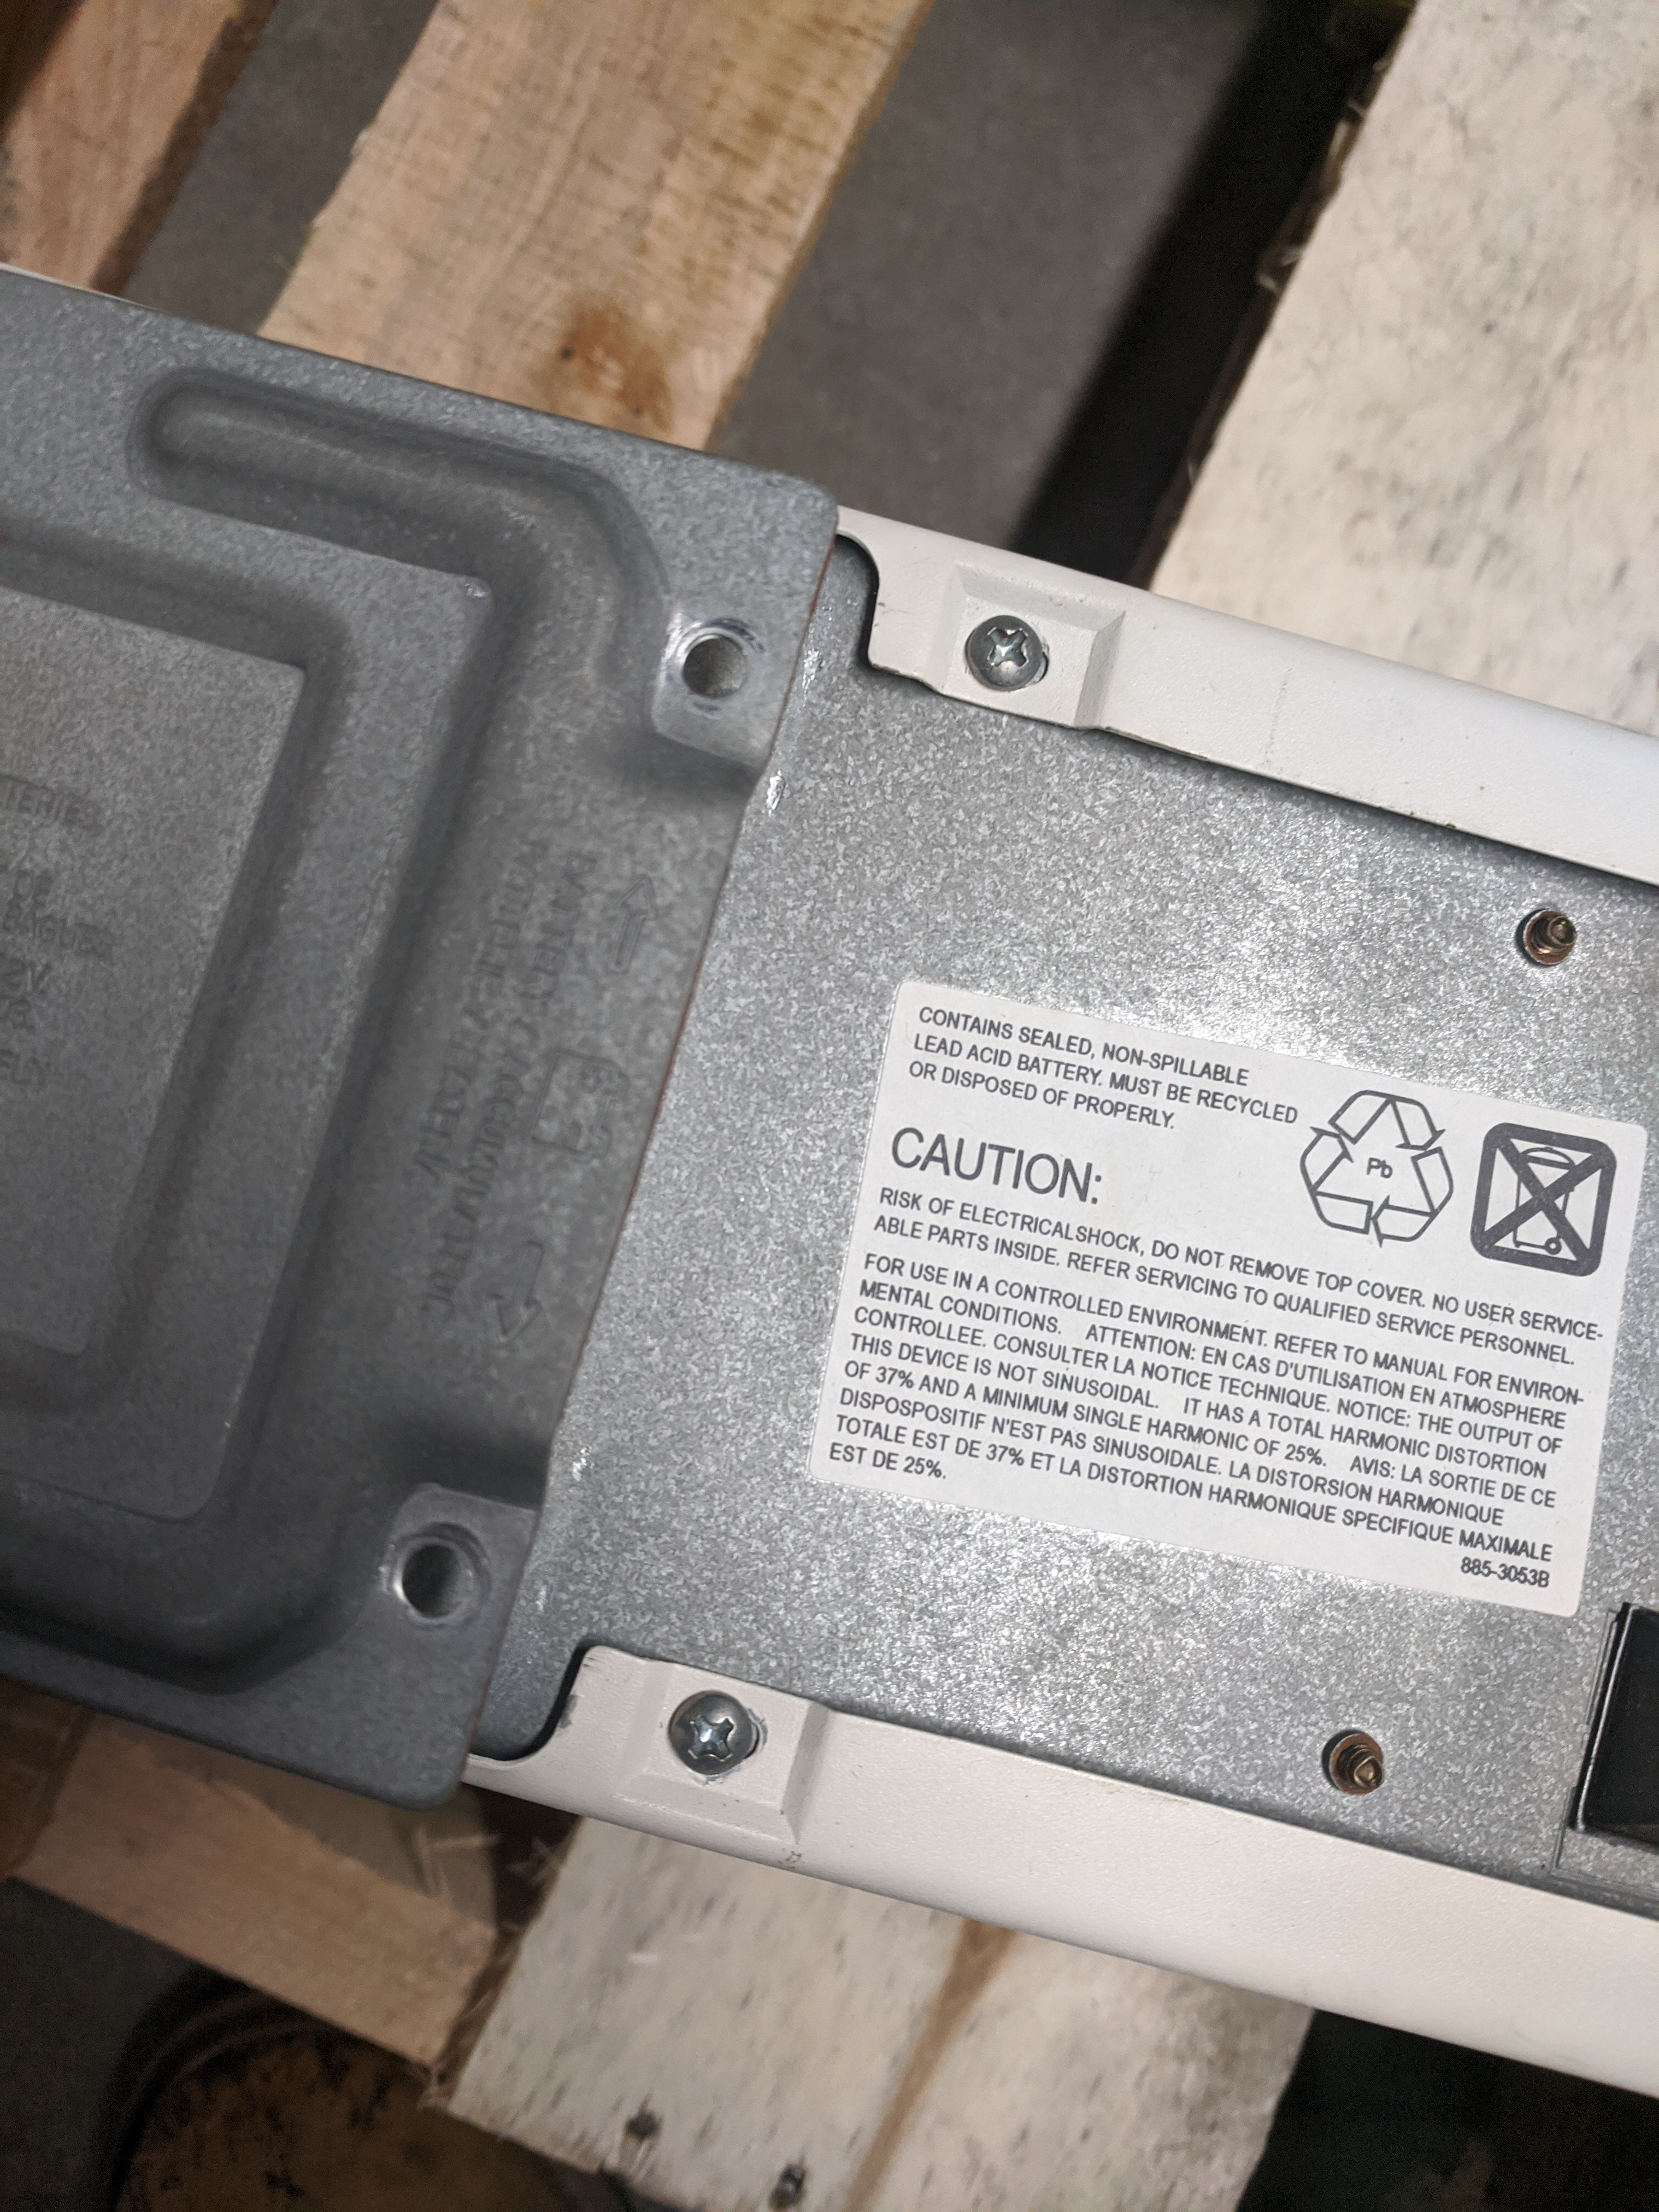cross_recessed_screw: (657, 1672, 762, 1782), (955, 599, 1056, 693)
